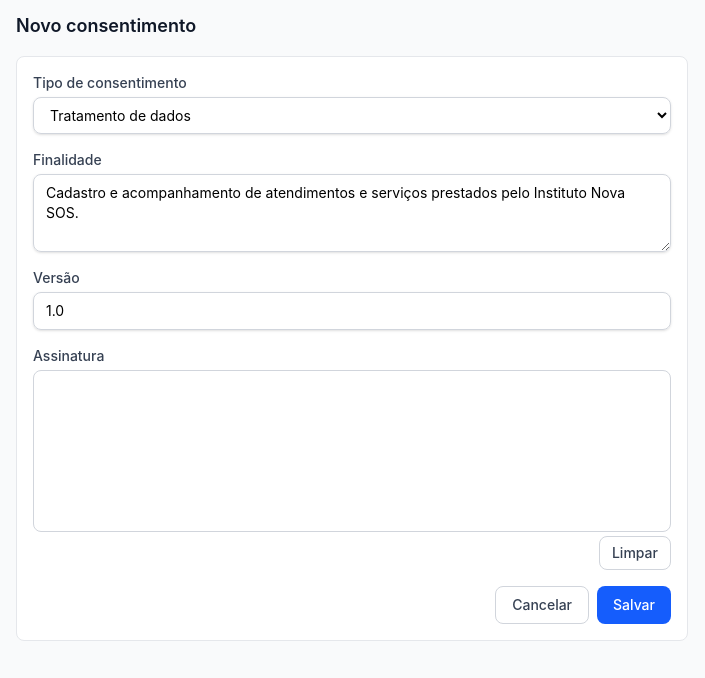
it: ConsentFormPage — fields and validation › blocks submit without a signature
Click the button "Salvar" at (634, 605), box [597,586,671,624]
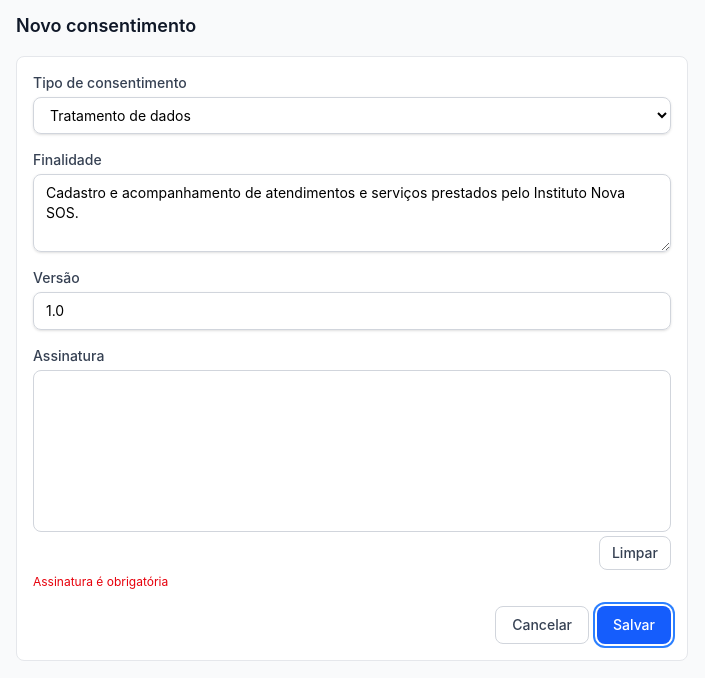
Expected: the text "Assinatura é obrigatória" is shown, [33,574,168,589]
